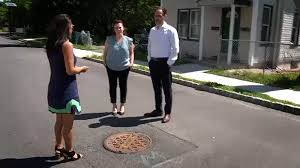Manhole-Closed: (96, 121, 174, 159)
human: (33, 5, 94, 165), (143, 4, 190, 126), (100, 13, 140, 117)
